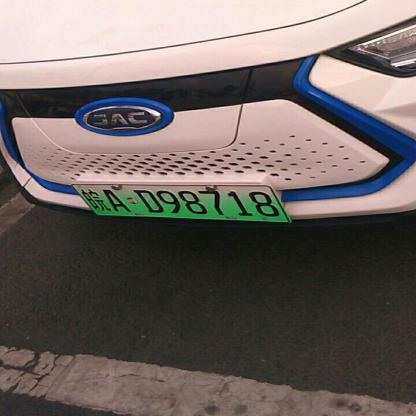lp: (73, 184, 288, 221)
